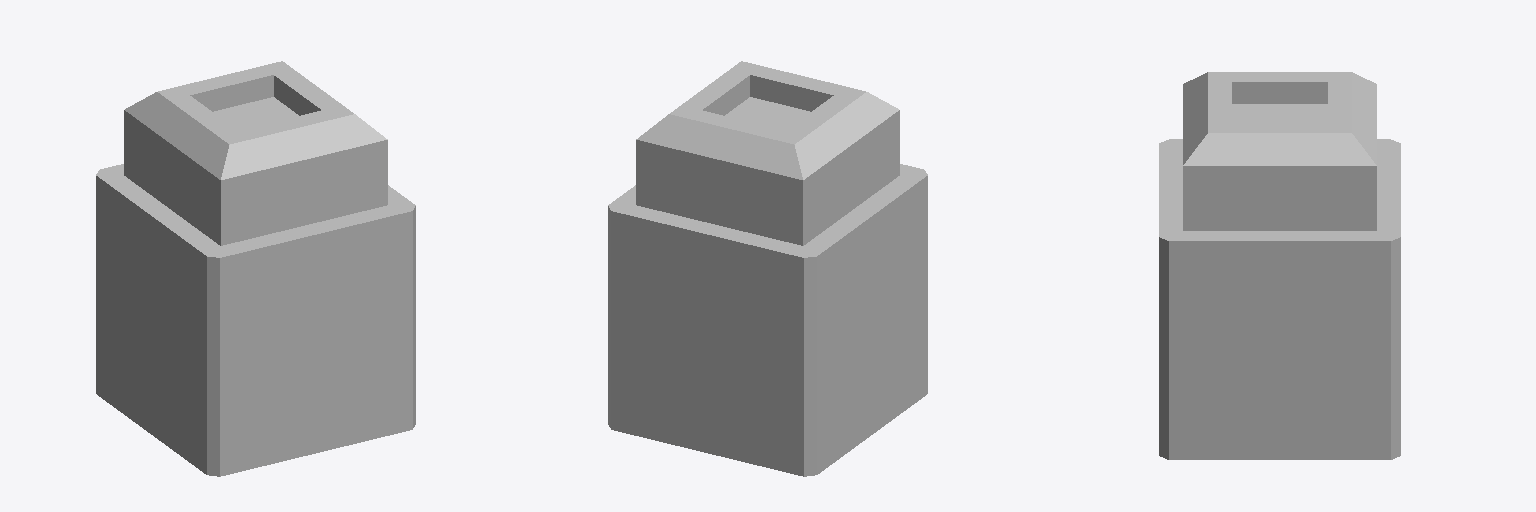
The model's file is low-detail-building-n.obj.
3 views of the same model, side by side, from view 1: azimuth 30°, elevation 25°; view 2: azimuth 150°, elevation 25°; view 3: azimuth 270°, elevation 25° (orthographic).
Visible parts, largest first — view 1: low-detail-building-n; view 2: low-detail-building-n; view 3: low-detail-building-n.
Part boxes in pixels (x1,y1,x2,y2): low-detail-building-n: (96, 61, 415, 476); low-detail-building-n: (608, 61, 927, 476); low-detail-building-n: (1159, 72, 1400, 459).
Bounding box in the file's own units: 0.5 × 0.7 × 0.5.